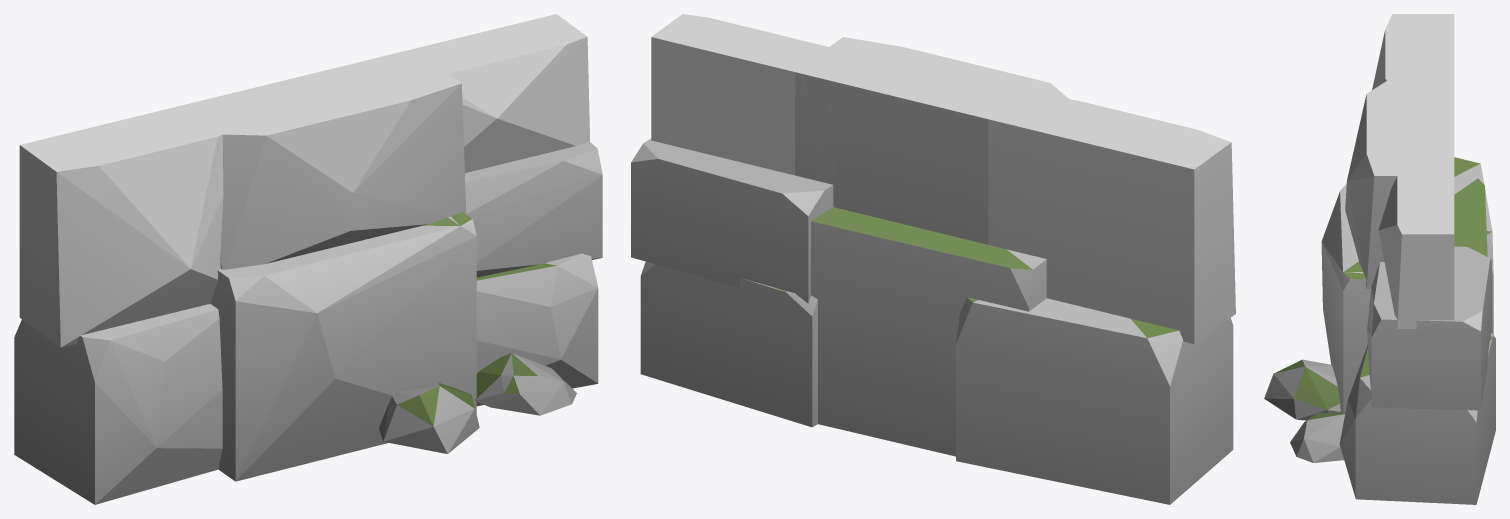
The picture shows the model from 3 angles, left to right: view 1: azimuth 30°, elevation 25°; view 2: azimuth 150°, elevation 25°; view 3: azimuth 270°, elevation 25°; orthographic projection. The views are drawn at different scales.
Visible parts, largest first — view 1: rk_cf2_1; view 2: rk_cf2_1; view 3: rk_cf2_1.
Boxes of the visible parts, x1,y1,x2,y2 form: rk_cf2_1: (14,14,602,504); rk_cf2_1: (631,14,1235,504); rk_cf2_1: (1264,14,1495,504).
Bounding box in the file's own units: 34.19 × 19.5 × 15.08.
